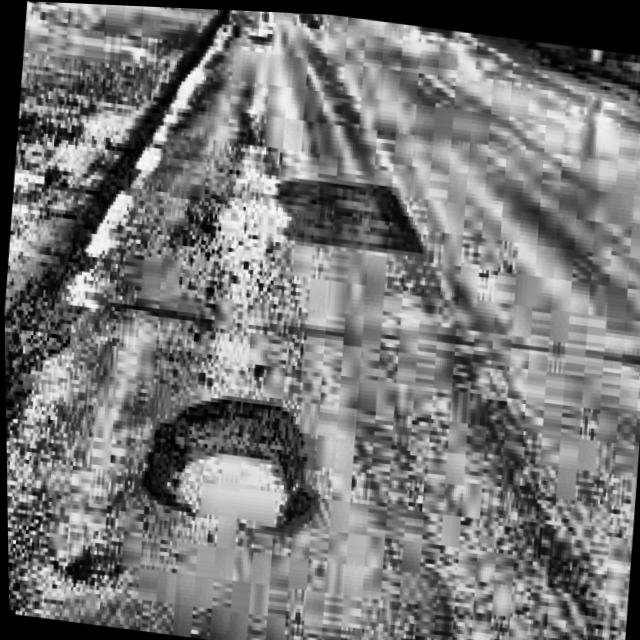Cracks: (142, 396, 310, 527)
